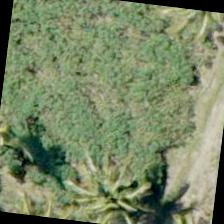Kelapa_Sawit: (64, 158, 162, 223)
